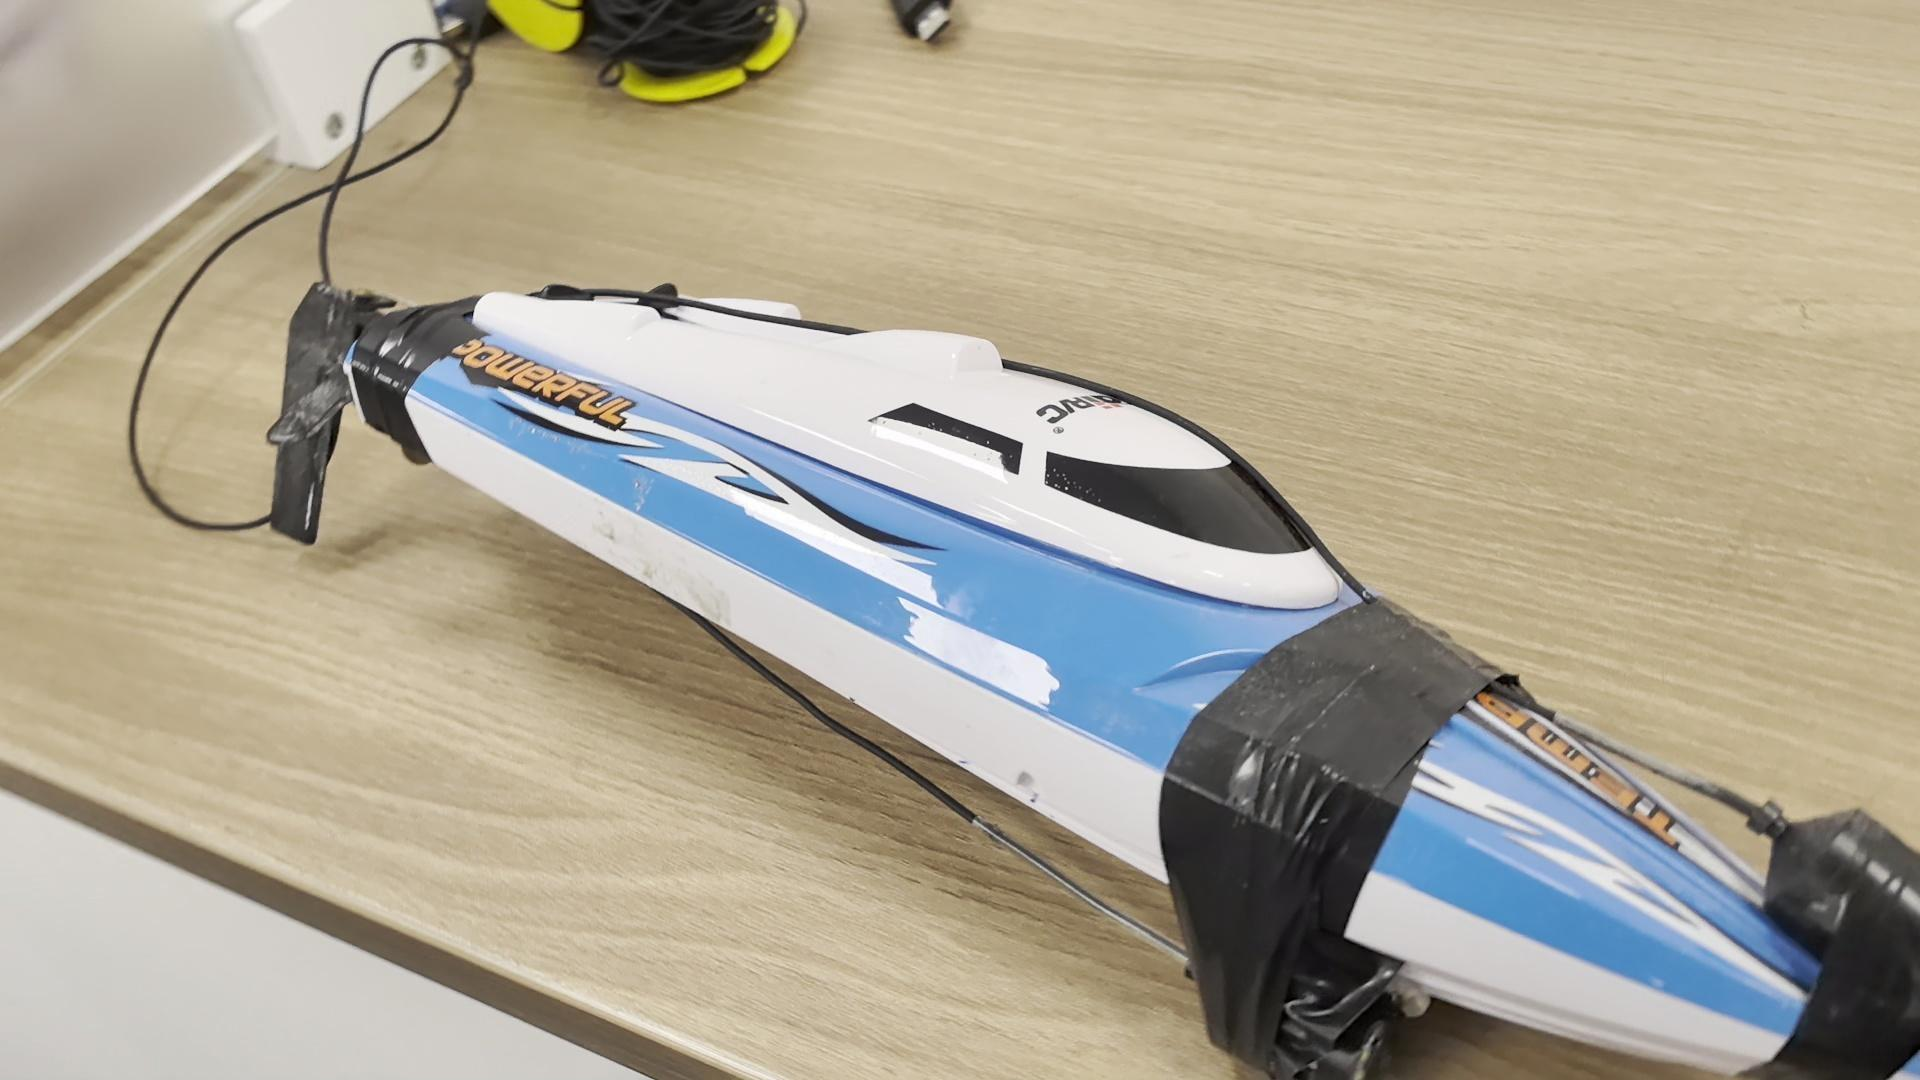Boat: (324, 273, 1908, 1073)
